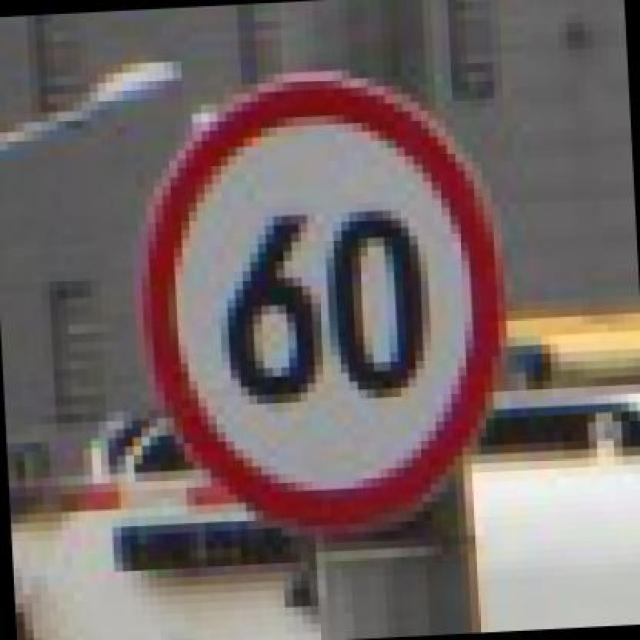Limite-60: (130, 61, 511, 545)
